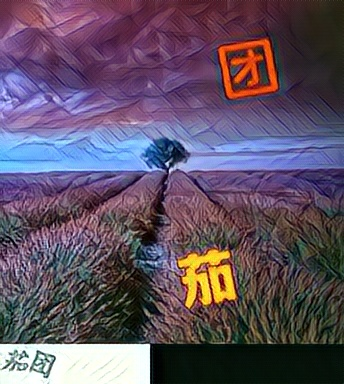C7D1: (175, 243, 238, 309)
CDC5: (214, 38, 277, 104)
